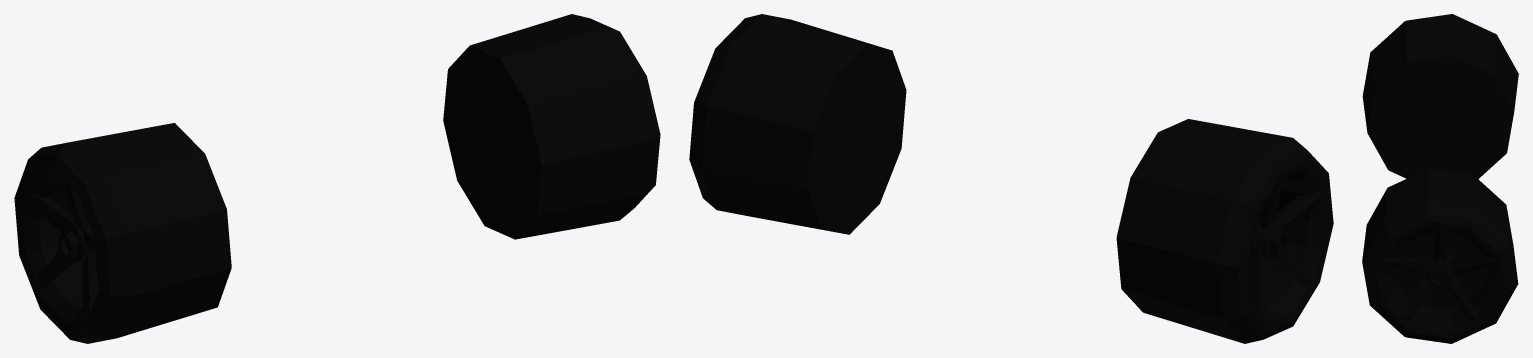
File: wheel.glb
3 views of the same model, side by side, from view 1: azimuth 30°, elevation 25°; view 2: azimuth 150°, elevation 25°; view 3: azimuth 270°, elevation 25° (orthographic). The views are drawn at different scales.
Parts seen in each view (by area): view 1: car1.001; view 2: car1.001; view 3: car1.001.
Part boxes in pixels (x1,y1,x2,y2): car1.001: [14, 14, 660, 343]; car1.001: [689, 14, 1333, 343]; car1.001: [1362, 14, 1518, 343].
Size of the model in its own units: 0.0795 by 0.0259 by 0.026.
1 material, 1 textured.
